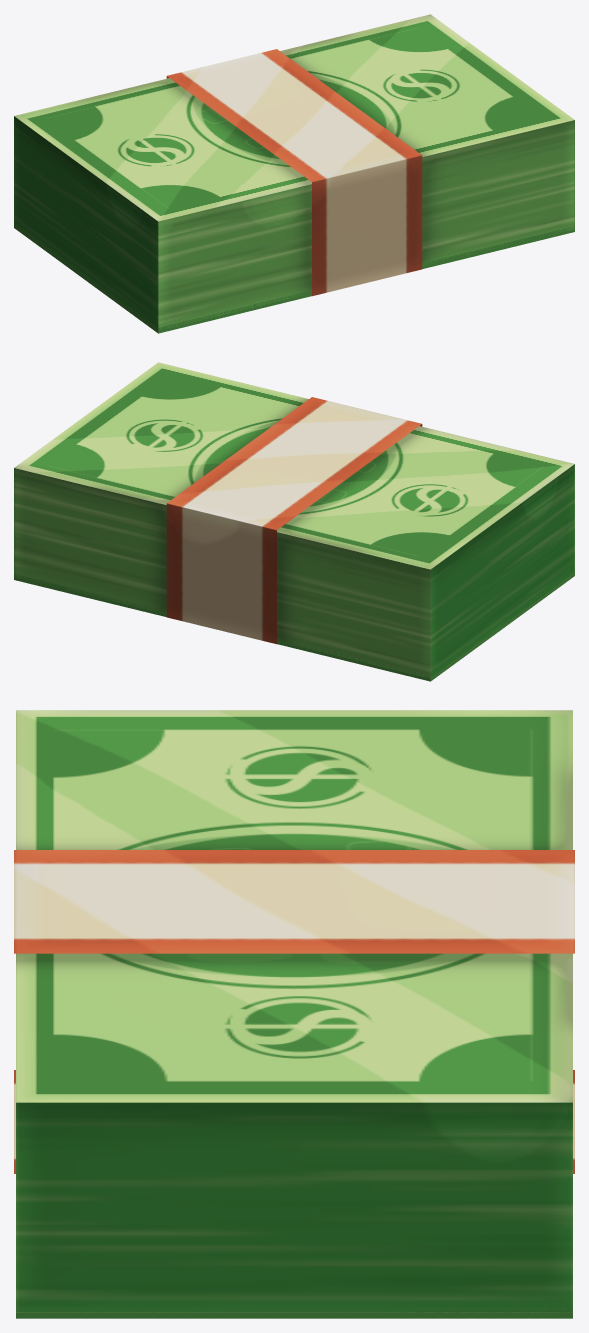
The model's file is Money.fbx.
3 views of the same model, one above another, from view 1: azimuth 30°, elevation 25°; view 2: azimuth 150°, elevation 25°; view 3: azimuth 270°, elevation 25° (orthographic). The views are drawn at different scales.
Parts seen in each view (by area): view 1: Money-Bale, Money-Single; view 2: Money-Bale, Money-Single; view 3: Money-Bale, Money-Single.
Boxes of the visible parts, x1,y1,x2,y2 form: Money-Bale: (14,14,574,329); Money-Single: (14,222,574,333); Money-Bale: (14,362,574,678); Money-Single: (14,570,574,681); Money-Bale: (14,710,574,1312); Money-Single: (16,1307,572,1318).
Bounding box in the file's own units: 1 × 0.2623 × 0.6042.
